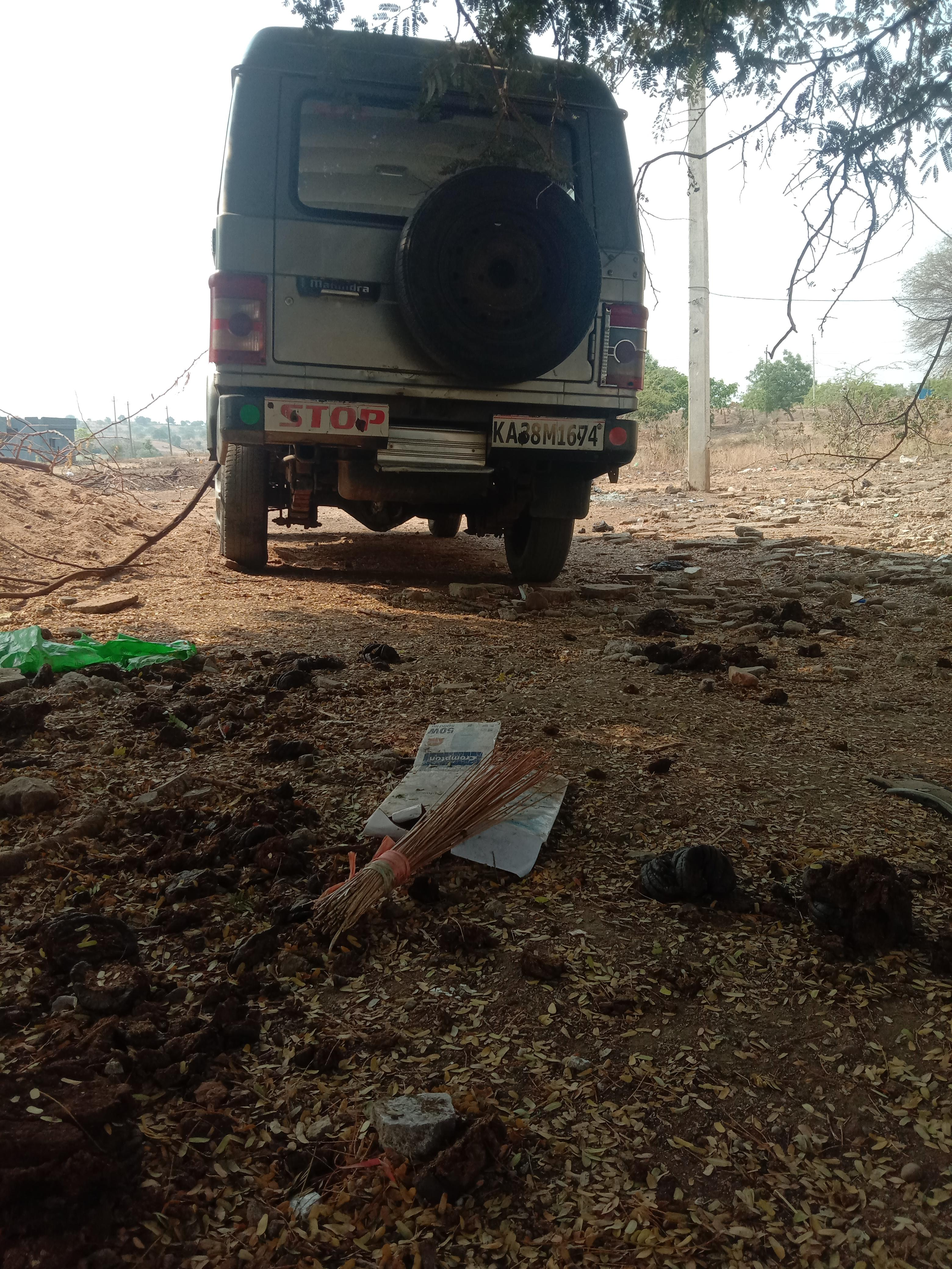Non-emergency: (205, 0, 690, 599)
